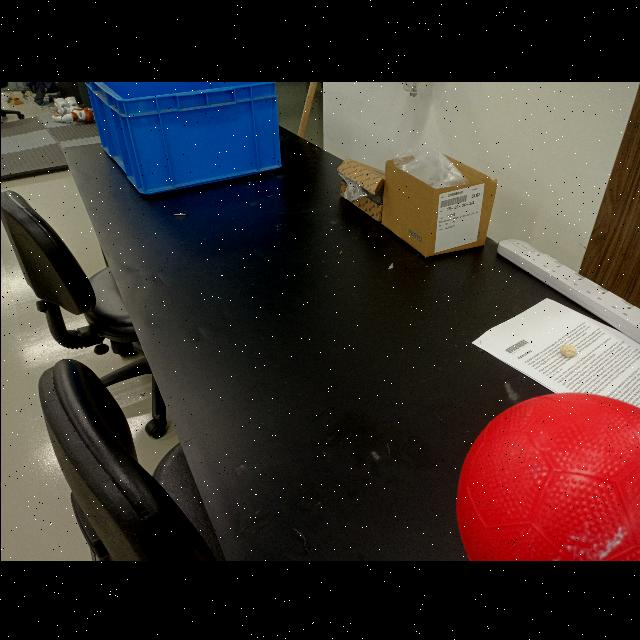R: (460, 390, 640, 560)
